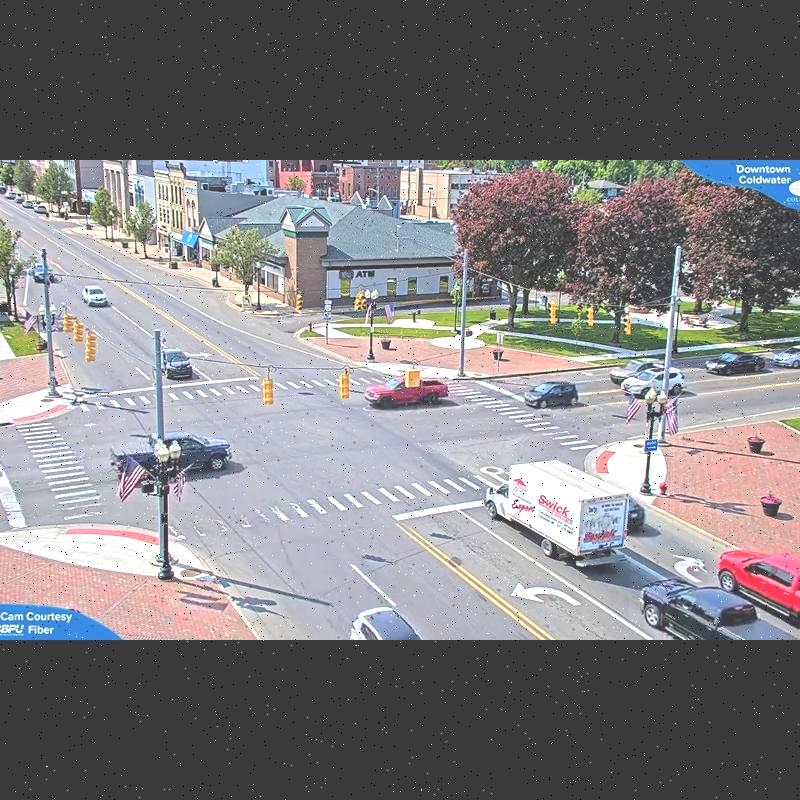car: (642, 573, 800, 640), (718, 543, 800, 640), (110, 434, 233, 481), (364, 376, 448, 407), (348, 607, 426, 640), (607, 358, 662, 386), (622, 368, 686, 392), (526, 382, 578, 409), (707, 352, 766, 374), (160, 349, 194, 382), (78, 282, 110, 308), (775, 345, 800, 370), (33, 262, 55, 284), (34, 204, 48, 213), (13, 194, 25, 204), (4, 190, 16, 199), (22, 200, 34, 208), (0, 185, 5, 195)
truck: (488, 459, 630, 575)
